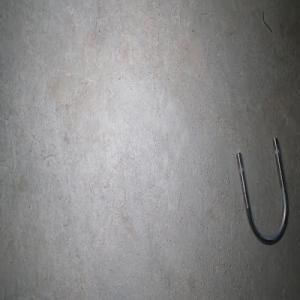ClampPart: (235, 135, 290, 246)
